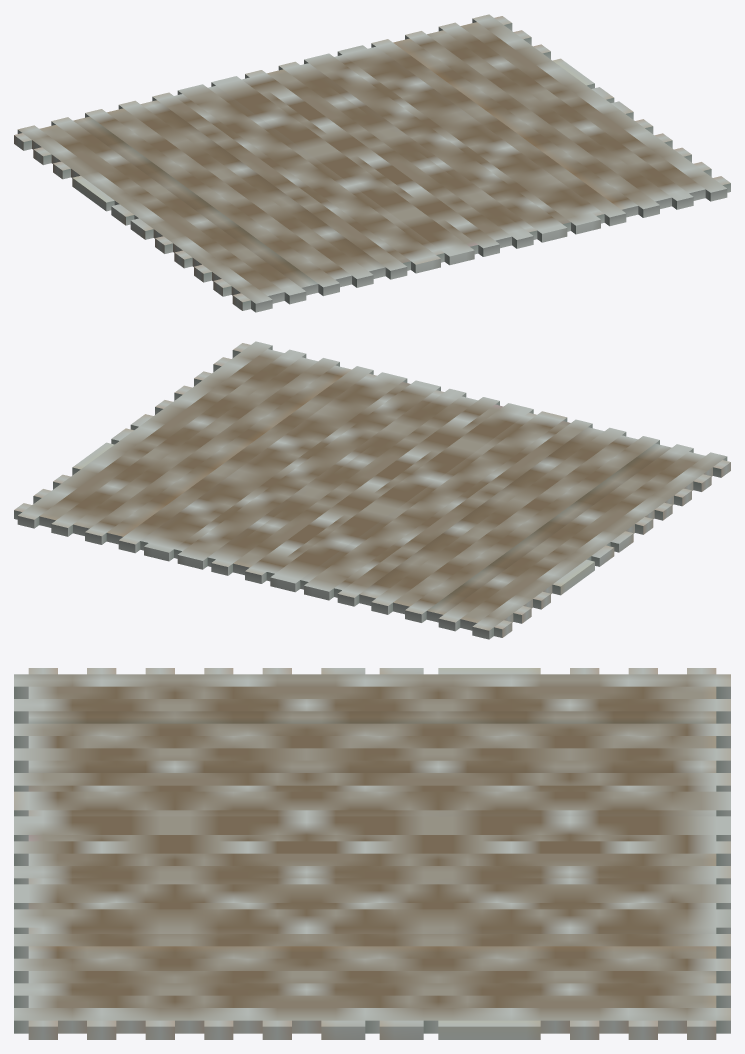
File: CarpetCircularPattern_00.obj
The picture shows the model from 3 angles, top to bottom: view 1: azimuth 30°, elevation 25°; view 2: azimuth 150°, elevation 25°; view 3: azimuth 270°, elevation 25°; orthographic projection. The views are drawn at different scales.
Parts seen in each view (by area): view 1: CarpetCircularPattern_00; view 2: CarpetCircularPattern_00; view 3: CarpetCircularPattern_00.
Part boxes in pixels (<box>): CarpetCircularPattern_00: <box>14,14,730,312</box>; CarpetCircularPattern_00: <box>14,341,730,639</box>; CarpetCircularPattern_00: <box>14,668,730,1039</box>.
Size of the model in its own units: 2.9 by 0.05 by 2.45.
